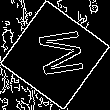M_W: (26, 28, 84, 82)
